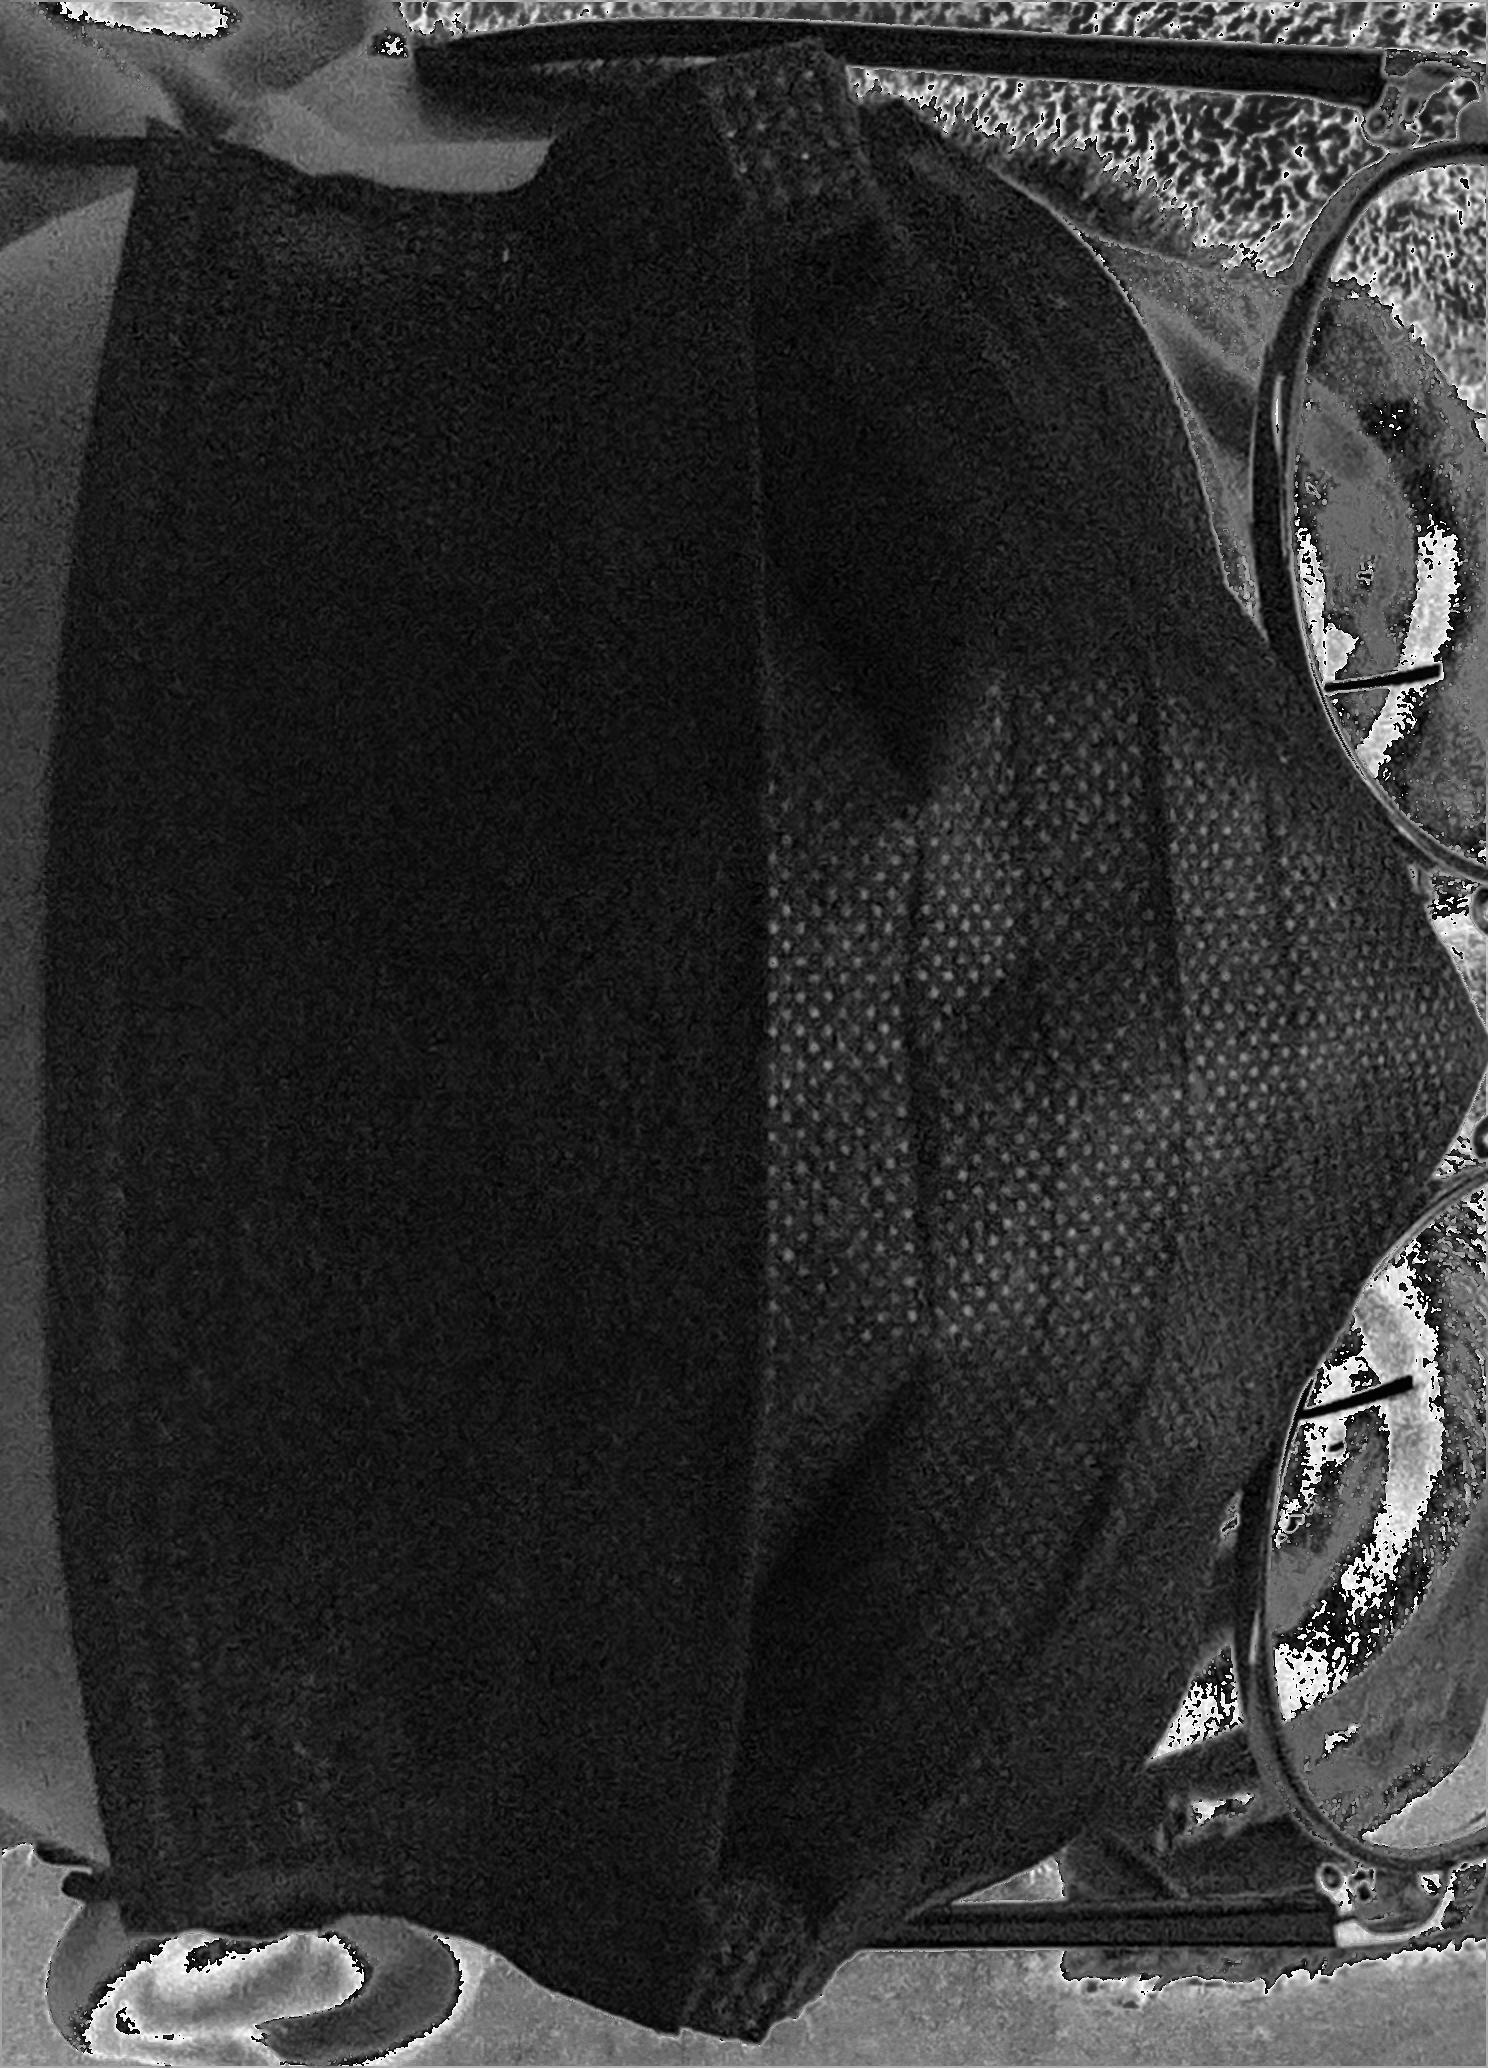Low GSM: (380, 342, 1100, 1752)
